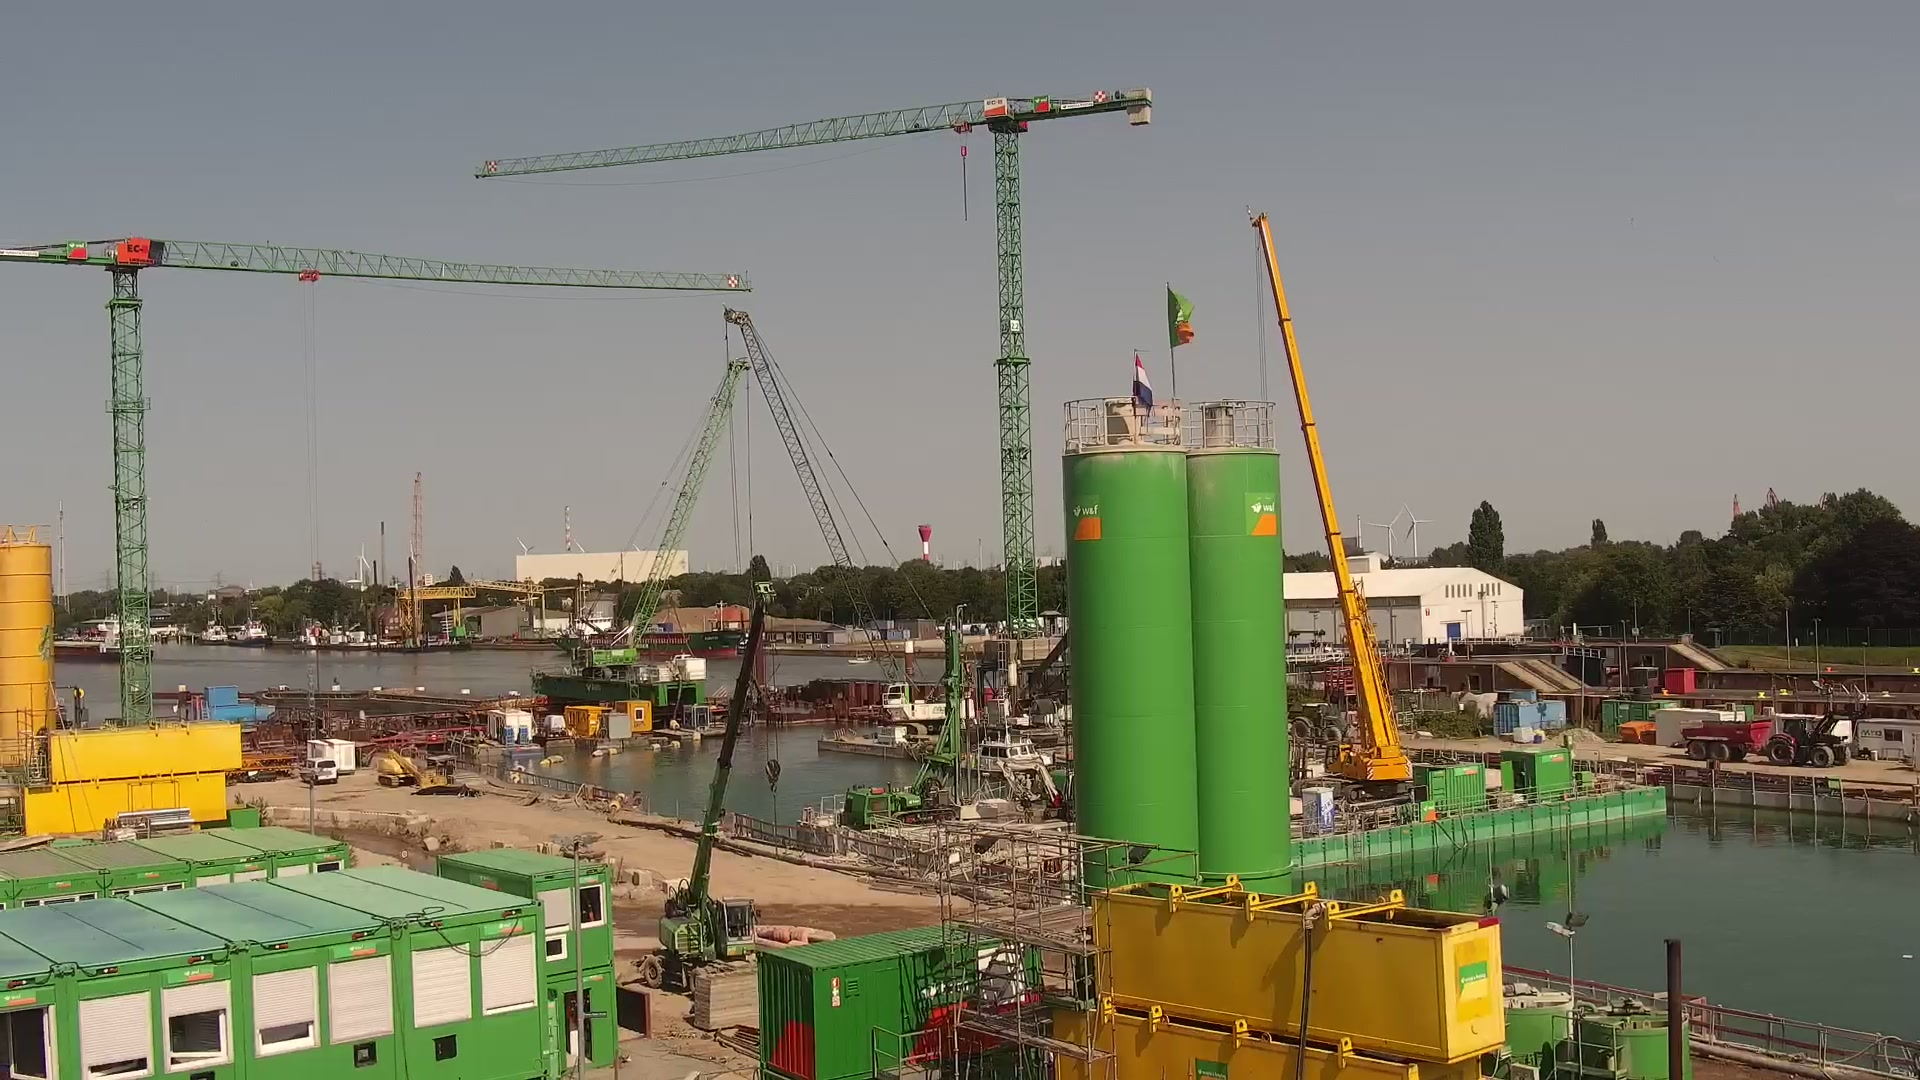land: (1768, 712, 1851, 770), (298, 756, 338, 785)
sea: (549, 615, 746, 659), (228, 600, 274, 647), (196, 604, 229, 646), (847, 654, 874, 665)
